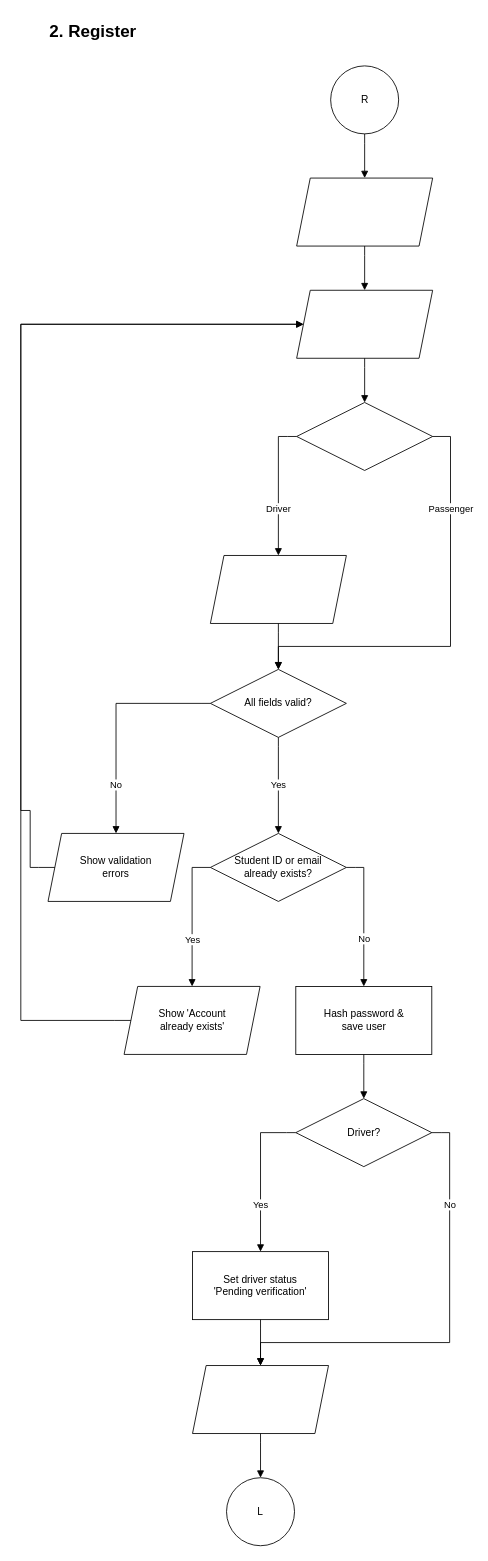
Image size: 488x1561. Some labels were removed from this diagram. The shapes that lost their labels are listed below. From the top down, each one's centre as x and y in pixels, then its label:
At point 364,211: "Display register form".
At point 364,323: "Enter student ID, name, email, phone, password, station & picture".
At point 364,436: "Registering as?".
At point 278,589: "Enter car model, plate, seats, licence & car image".
At point 260,1399: "Show 'Registration successful'".
